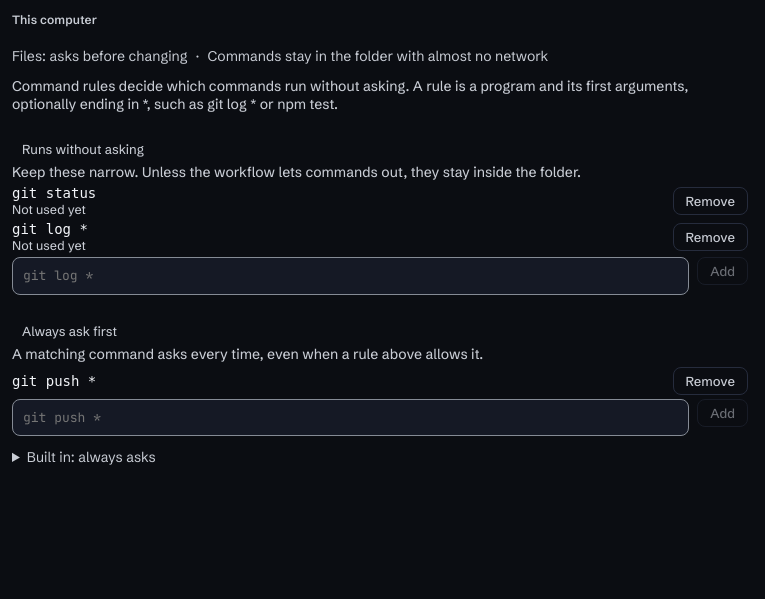
Test case: ActionRulesSection: this computer › shows the backend error when saving is refused
The width and height of the screenshot is (765, 599).
Type "x y" into the field named "New rule for: Runs without asking".
click(351, 276); type("x y")  # box [12,257,689,294]
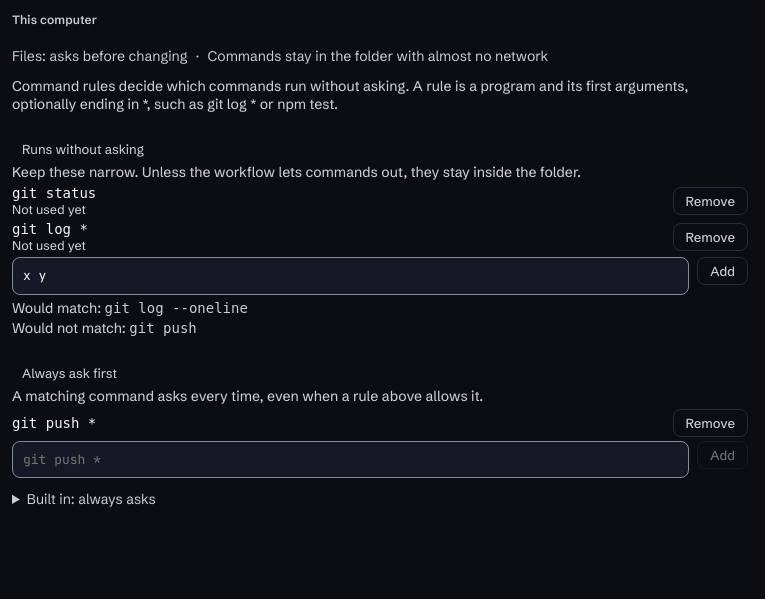
Check: the text "git log --oneline" is shown, box [105,300,248,316]
Click the button with aria-label "Add a rule to: Runs without asking".
click(723, 271)  # box [697,257,748,285]
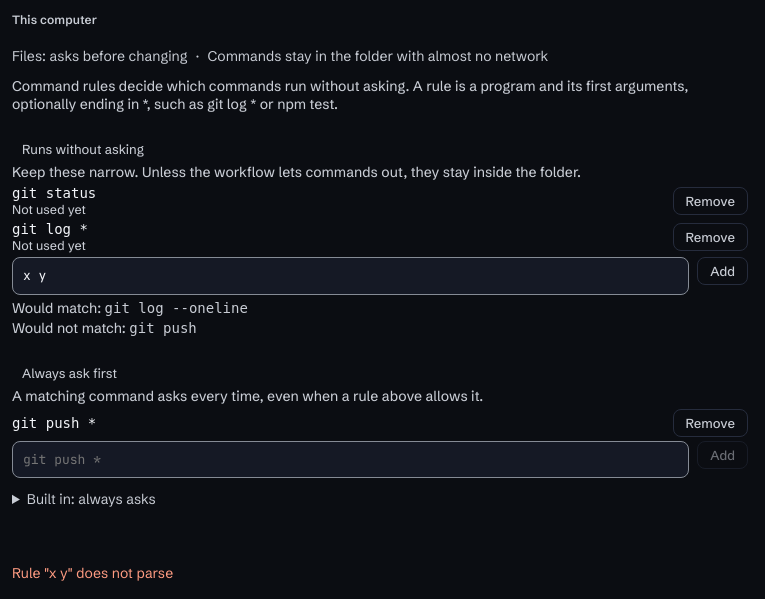
Check: the text "Rule \"x y\" does not parse" is shown, box [12,564,173,582]
